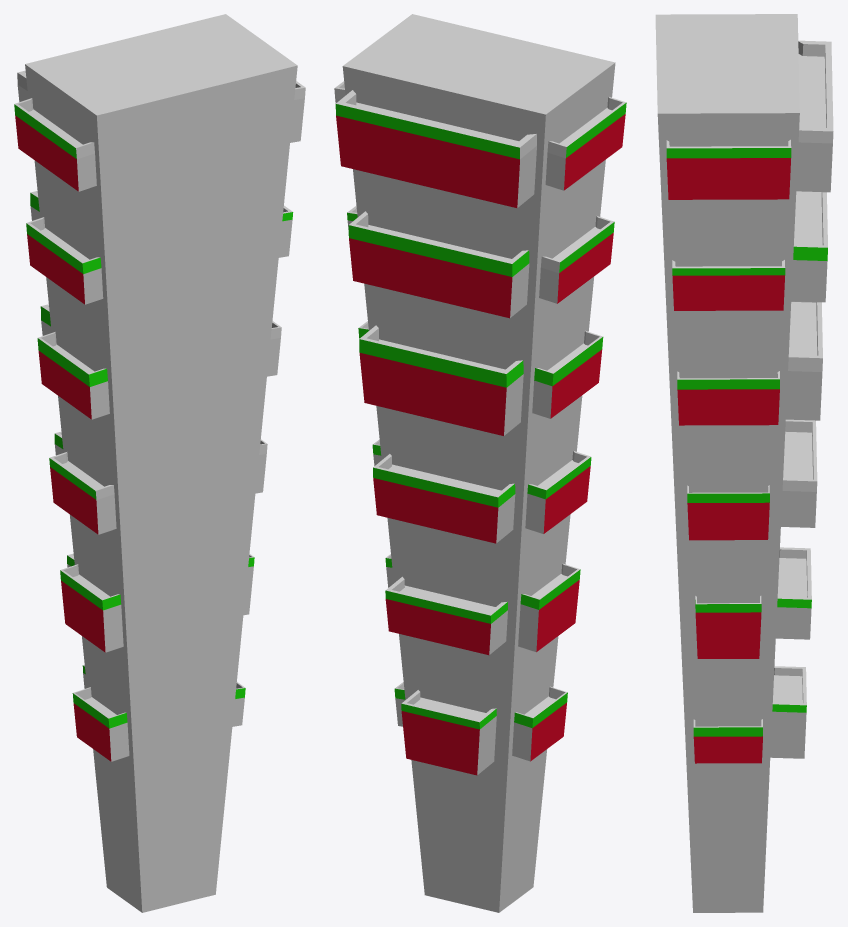
3 views of the same model, side by side, from view 1: azimuth 30°, elevation 25°; view 2: azimuth 150°, elevation 25°; view 3: azimuth 270°, elevation 25° (orthographic).
Parts seen in each view (by area): view 1: Cube.056; view 2: Cube.056; view 3: Cube.056.
Boxes of the visible parts, box(x1,y1,x2,y2) form: Cube.056: box(14, 14, 305, 912); Cube.056: box(334, 14, 626, 912); Cube.056: box(655, 14, 833, 912).
Size of the model in its own units: 1048 by 3575 by 694.
